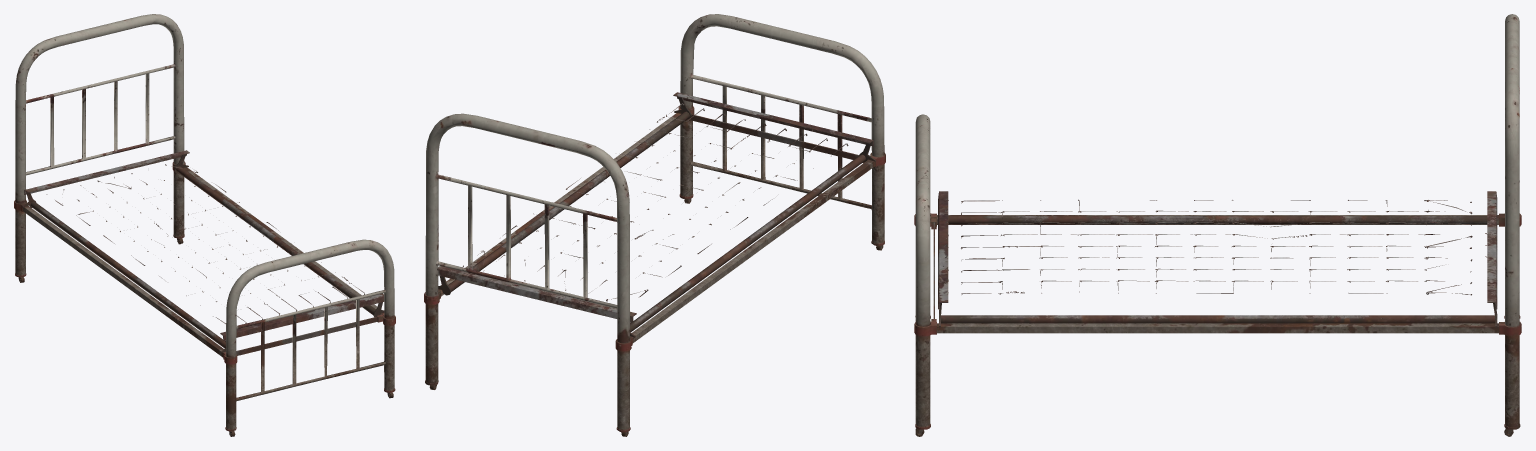
The model's file is old_bed_frame.glb.
3 renders of one model, left to right at view 1: azimuth 30°, elevation 25°; view 2: azimuth 150°, elevation 25°; view 3: azimuth 270°, elevation 25°, orthographic. The views are drawn at different scales.
Visible parts, largest first — view 1: old_bed_frame; view 2: old_bed_frame; view 3: old_bed_frame.
Part boxes in pixels (box(x1,y1,x2,y2)): old_bed_frame: box(14, 14, 395, 436); old_bed_frame: box(424, 14, 885, 436); old_bed_frame: box(914, 14, 1521, 436).
Bounding box in the file's own units: 0.9047 × 1.2 × 2.
Materials: 1 (1 with a texture image).
